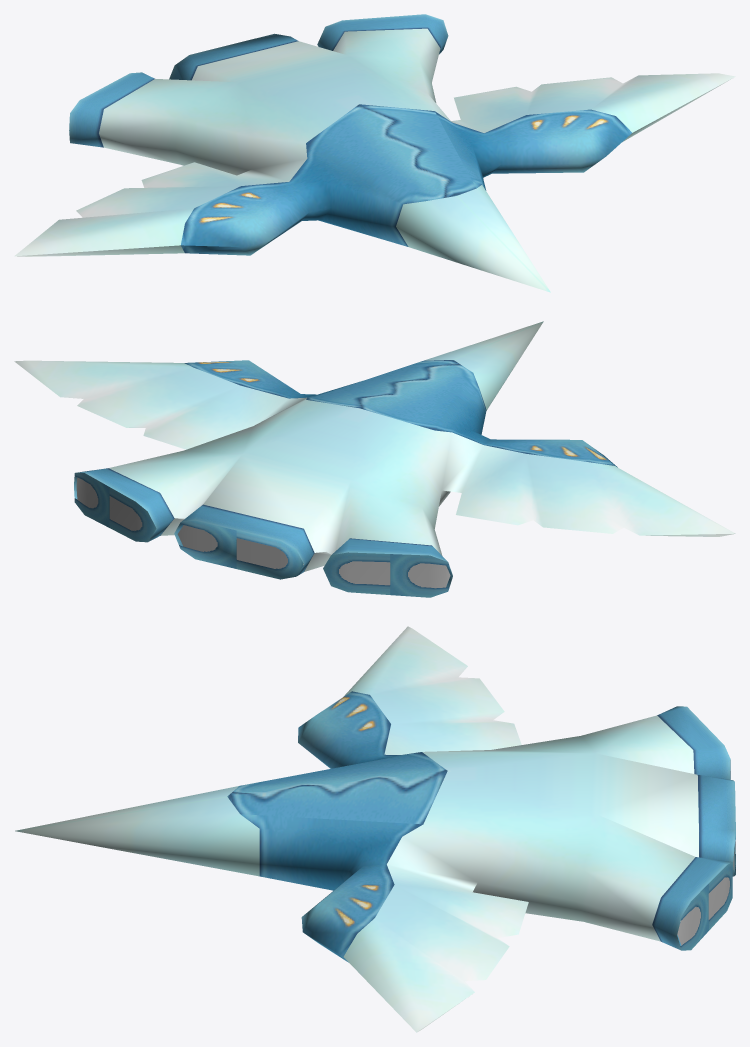
The model's file is Winged Star.dae.
3 views of the same model, one above another, from view 1: azimuth 30°, elevation 25°; view 2: azimuth 150°, elevation 25°; view 3: azimuth 270°, elevation 25° (orthographic). The views are drawn at different scales.
Parts seen in each view (by area): view 1: DrawCall_0177, DrawCall_0178, DrawCall_0205; view 2: DrawCall_0177, DrawCall_0205, DrawCall_0178, DrawCall_0179; view 3: DrawCall_0177, DrawCall_0178, DrawCall_0205, DrawCall_0179.
Boxes of the visible parts, left/top/right/bottom form: DrawCall_0177: left=14, top=28, right=735, bottom=292; DrawCall_0178: left=180, top=104, right=631, bottom=255; DrawCall_0205: left=69, top=14, right=448, bottom=147; DrawCall_0177: left=14, top=321, right=735, bottom=571; DrawCall_0205: left=74, top=468, right=452, bottom=597; DrawCall_0178: left=184, top=360, right=617, bottom=467; DrawCall_0179: left=76, top=477, right=450, bottom=588; DrawCall_0177: left=15, top=626, right=698, bottom=1032; DrawCall_0178: left=227, top=691, right=447, bottom=962; DrawCall_0205: left=652, top=706, right=735, bottom=950; DrawCall_0179: left=677, top=852, right=734, bottom=945.
Bounding box in the file's own units: 68.08 × 9.13 × 51.11.
Materials: 4 (3 with a texture image).
